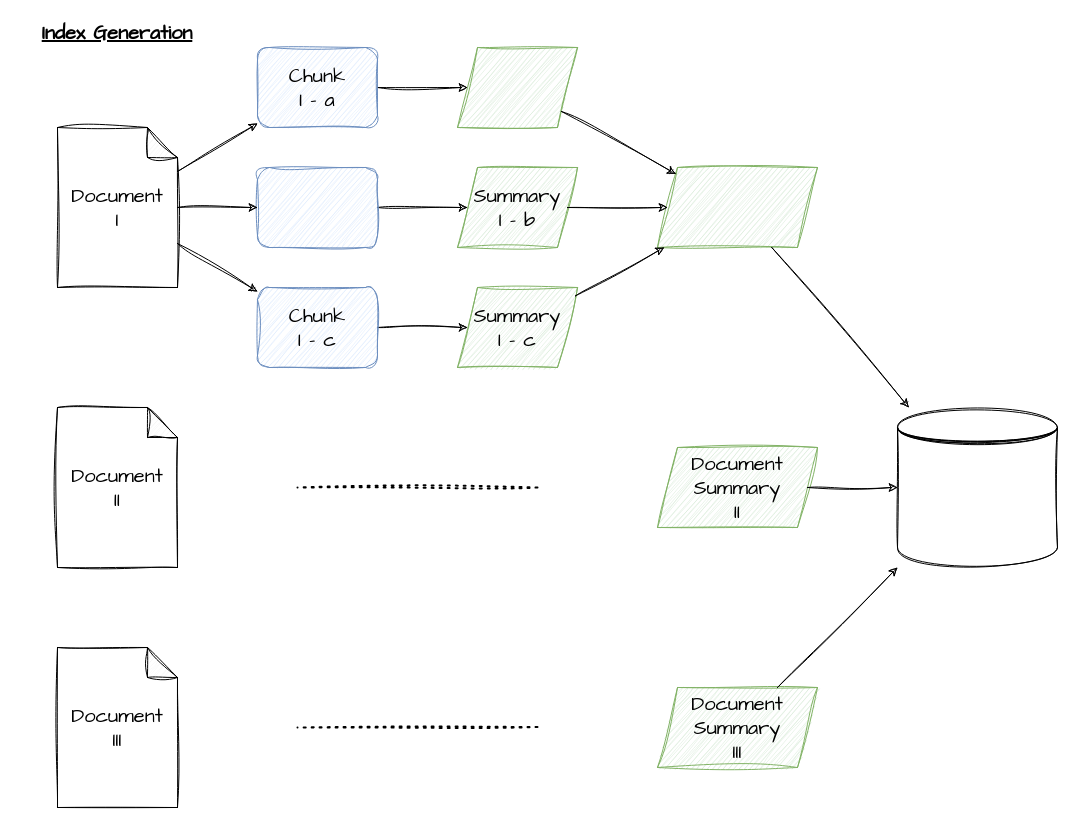
Some shapes in this 1075 by 825 pixel diagram are drawn without their labels. Each missing label, with the box of its shape:
Chunk I - b: (256, 166, 378, 248)
Document Summary I: (656, 166, 818, 248)
Document Summary Index: (896, 406, 1058, 568)
Summary I - a: (456, 46, 578, 128)
